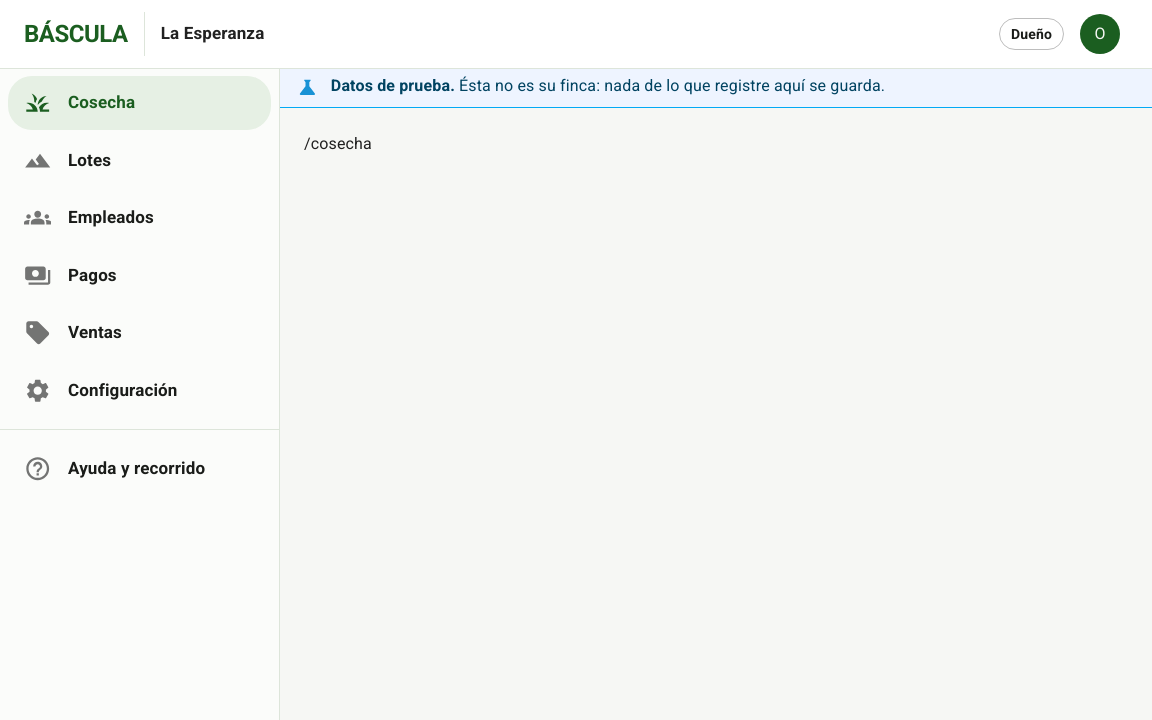
Test: the account menu › sends an owner to change the password in Configuración
Click the button named "Cuenta" at (1100, 34), box [1072, 6, 1128, 62]
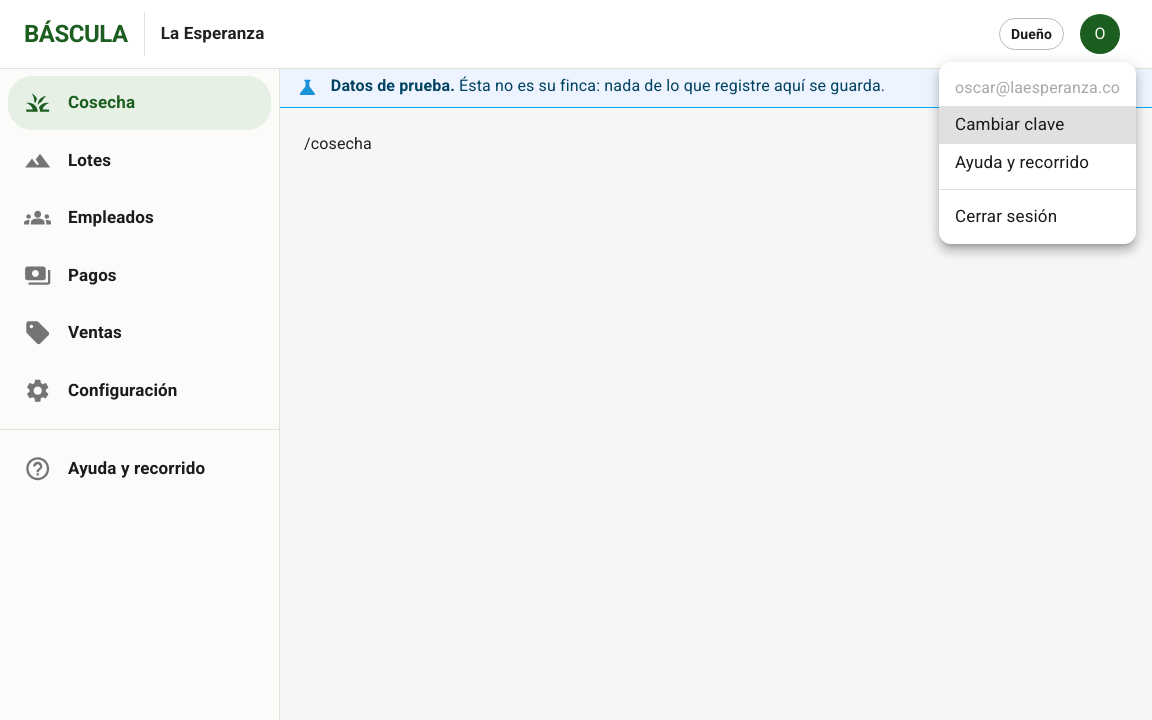
Check: the menu item "oscar@laesperanza.co" is shown, box [955, 78, 1120, 97]
Click the menu item "Cambiar clave" at (1038, 125), box [939, 106, 1136, 144]
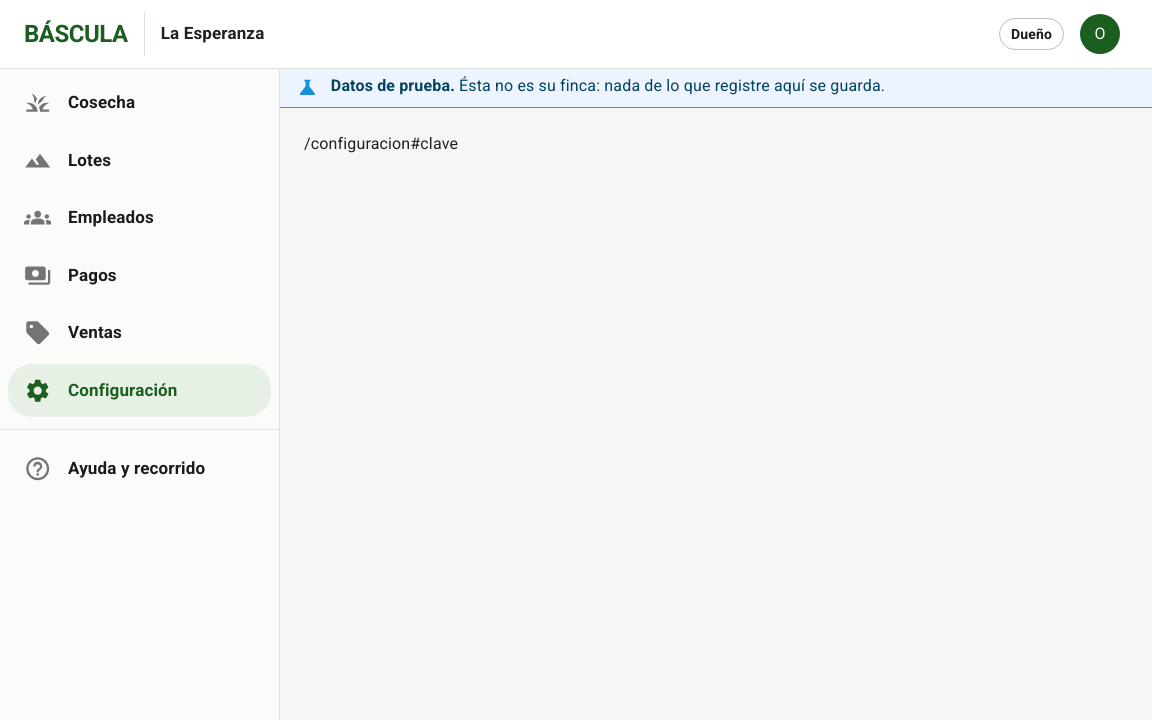
Check: the text with test id "where" reads "/configuracion#clave", box [304, 134, 458, 153]
